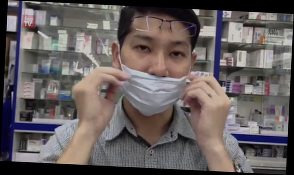mask_weared_incorrect: (118, 33, 193, 118)
